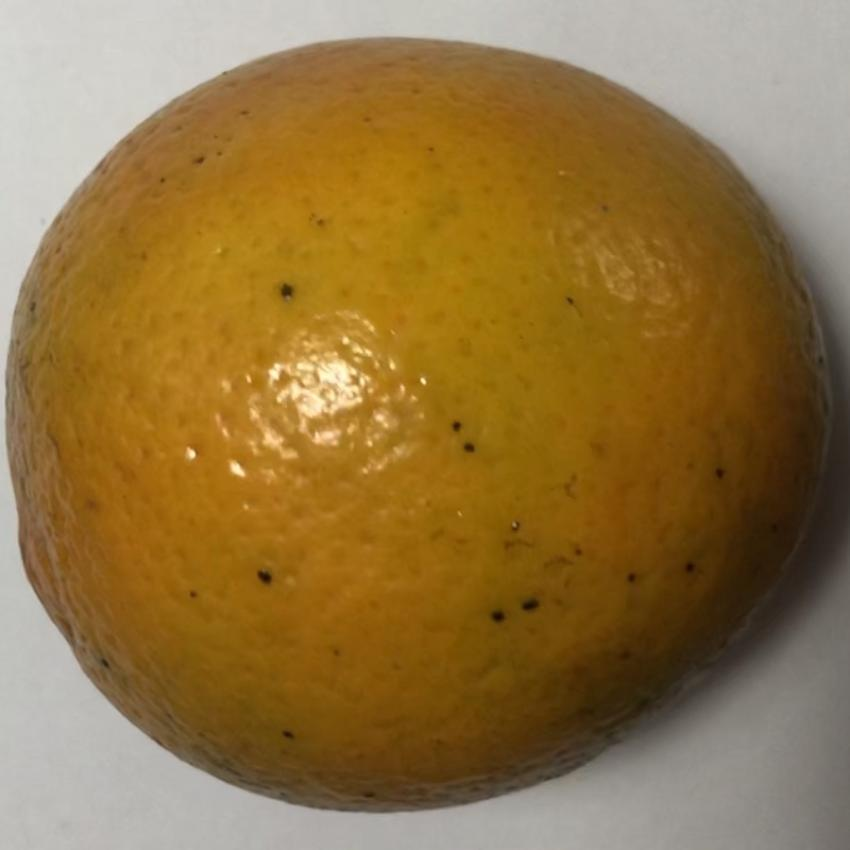Mal estado: (0, 8, 842, 815)
